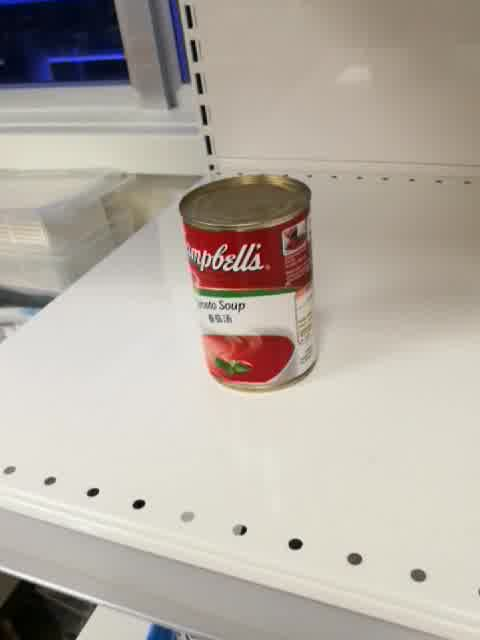tomatosoup: (178, 172, 318, 395)
